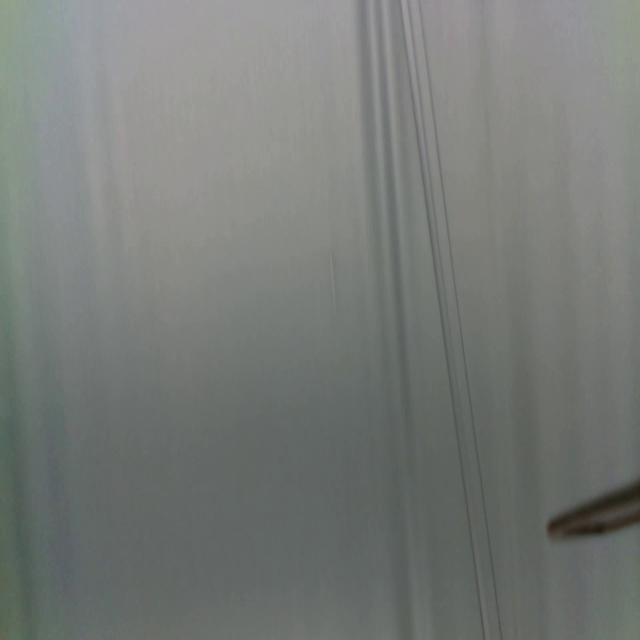crease: (400, 0, 505, 640), (327, 246, 336, 310)
